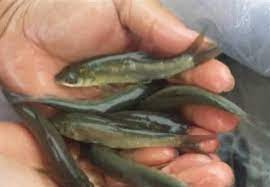fish: (77, 145, 133, 175), (60, 60, 113, 85), (38, 157, 86, 184), (48, 115, 102, 138), (142, 112, 189, 134), (127, 83, 163, 100)
